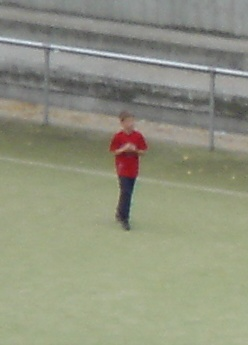person: (104, 108, 151, 232)
